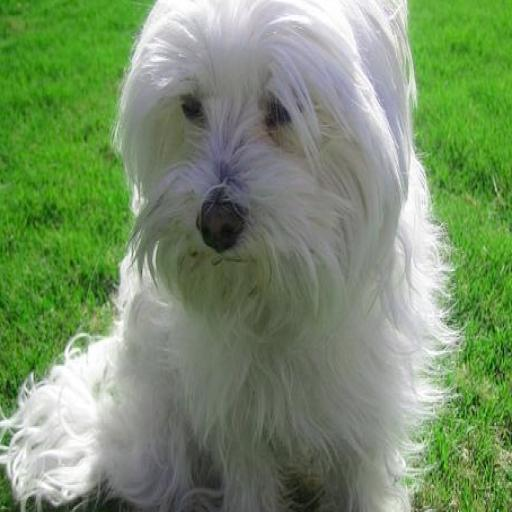dog_face: (110, 0, 392, 316)
